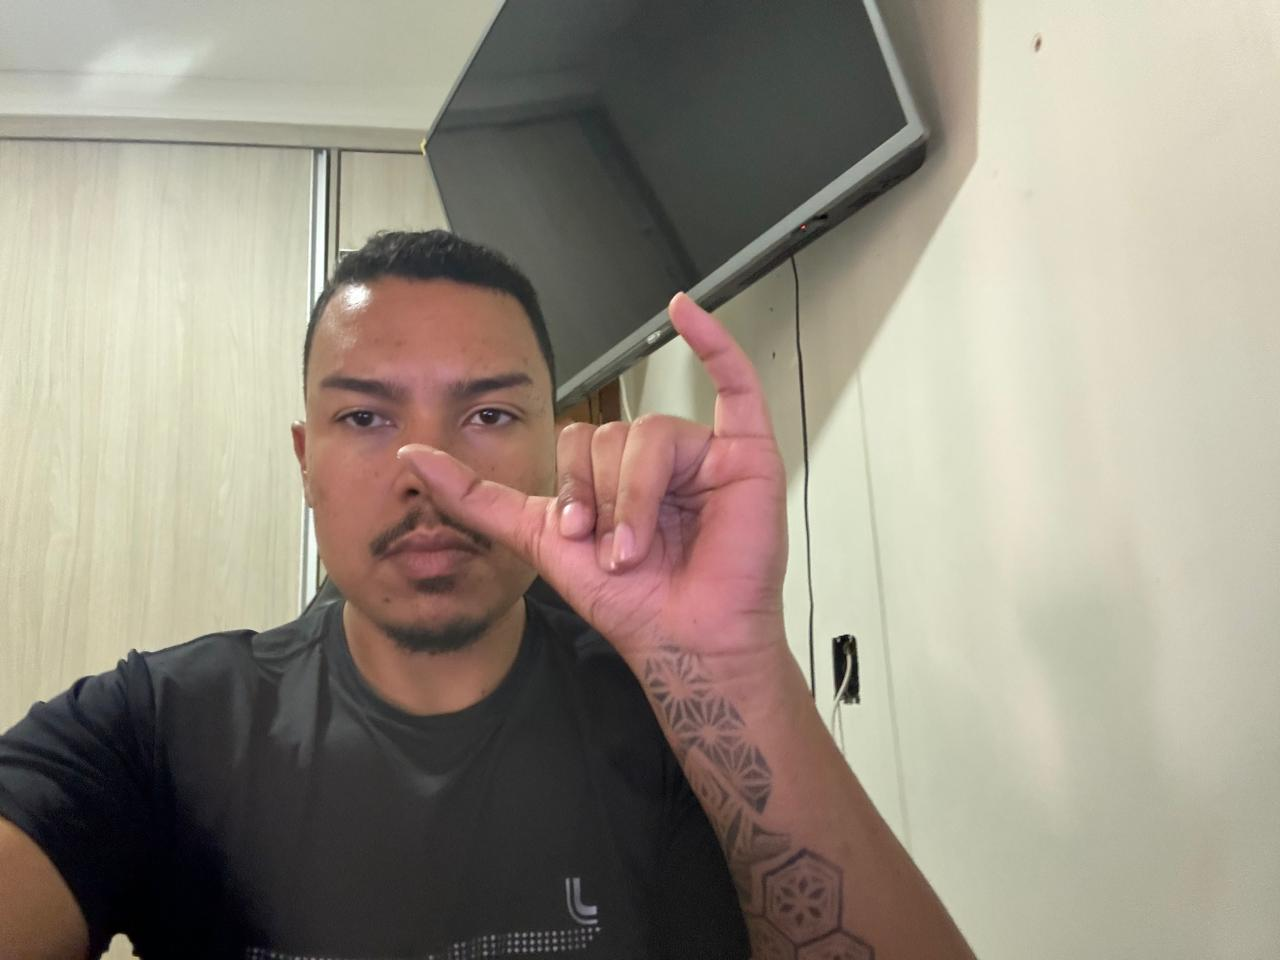y: (394, 289, 818, 683)
